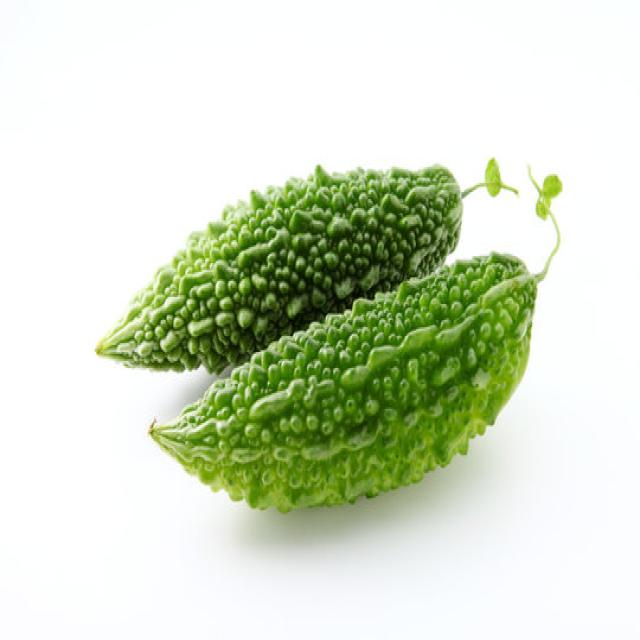Bitter_Gourd: (95, 154, 562, 514)
